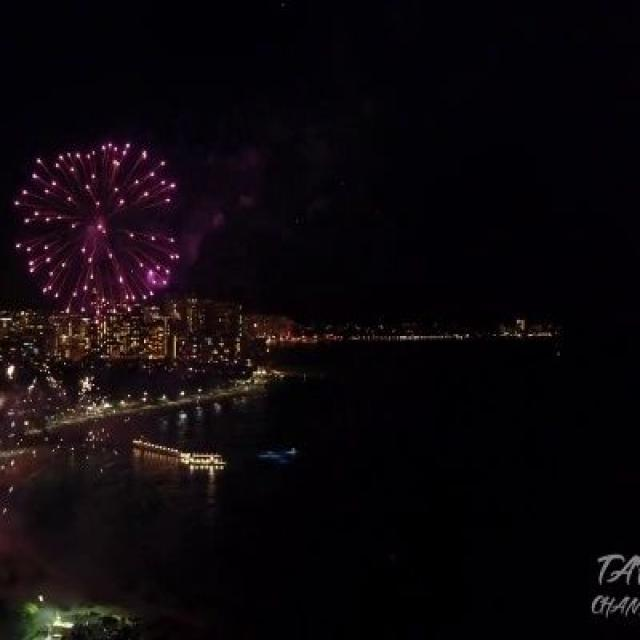Smoke: (221, 138, 277, 214), (191, 197, 227, 252)
